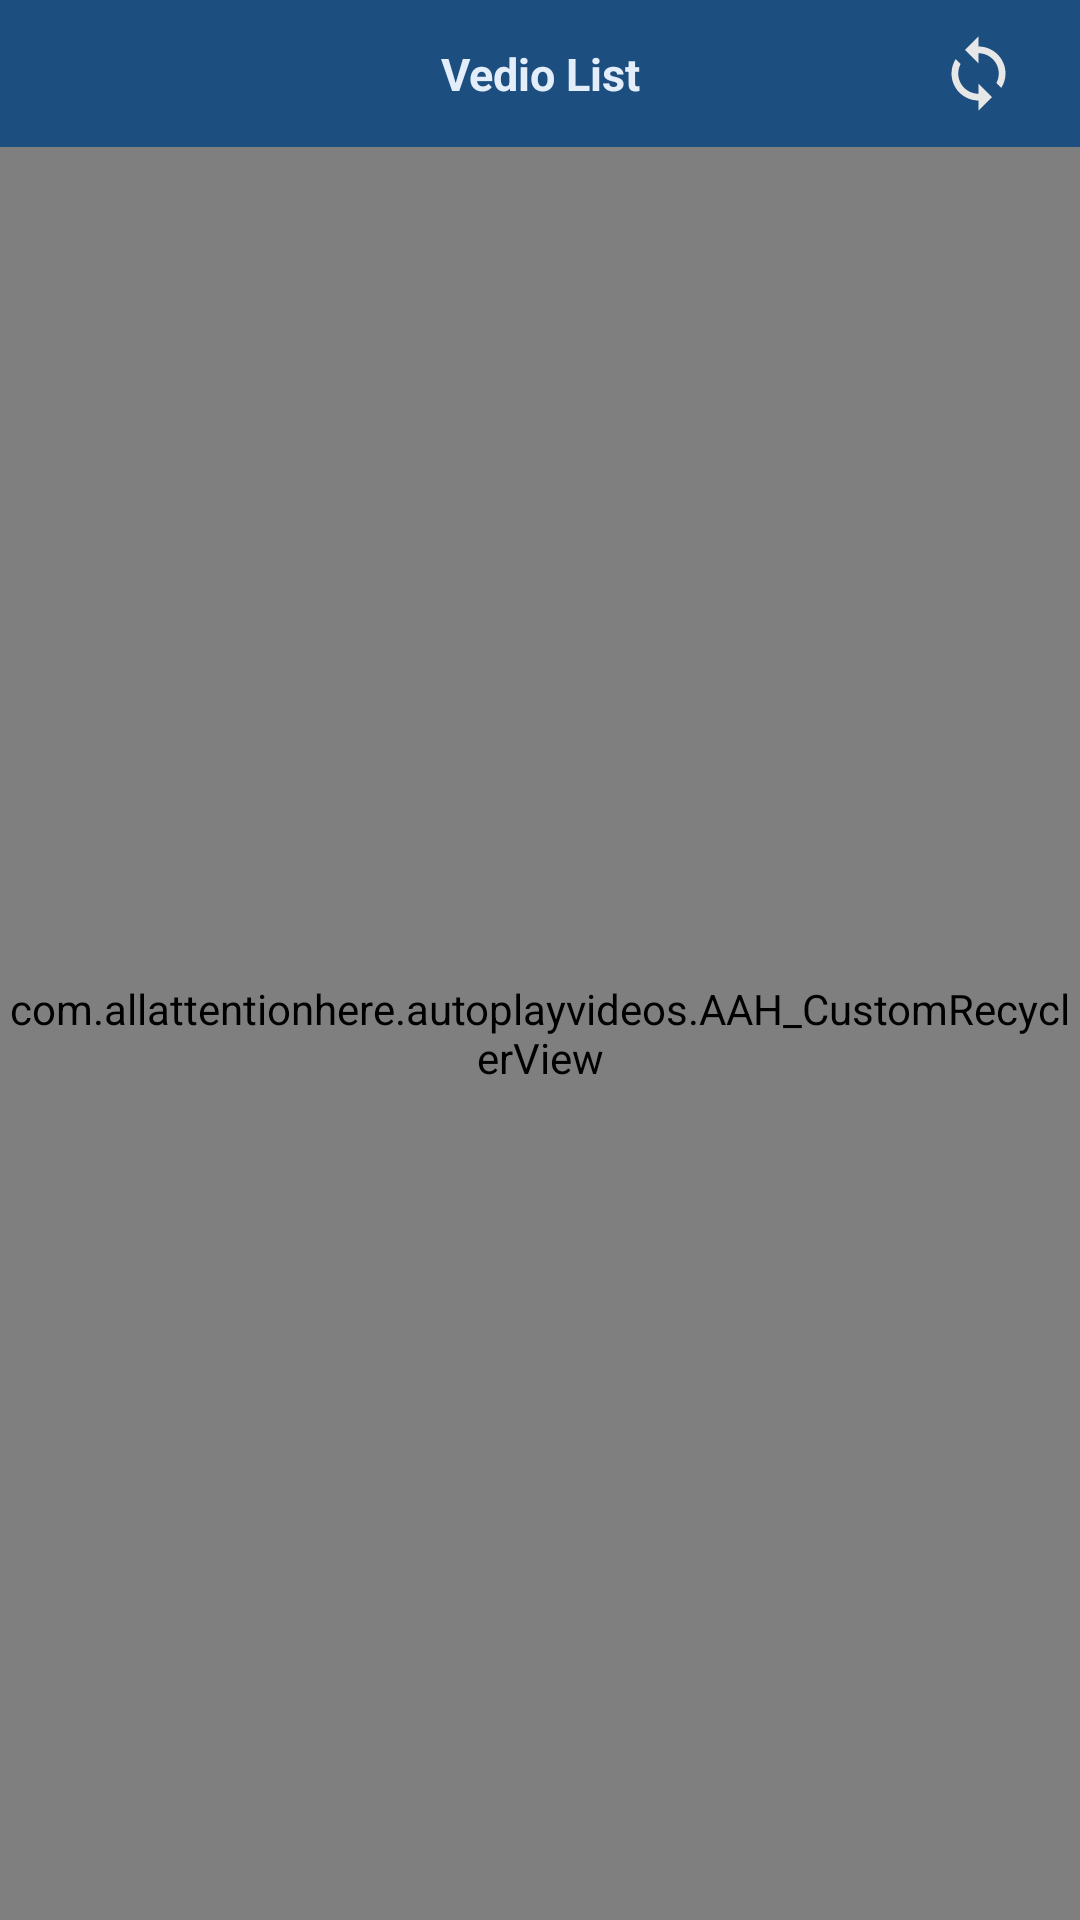

Named icons in this screenshot (1080x1920) and their centers, [x,y]:
sync: [978,73]
